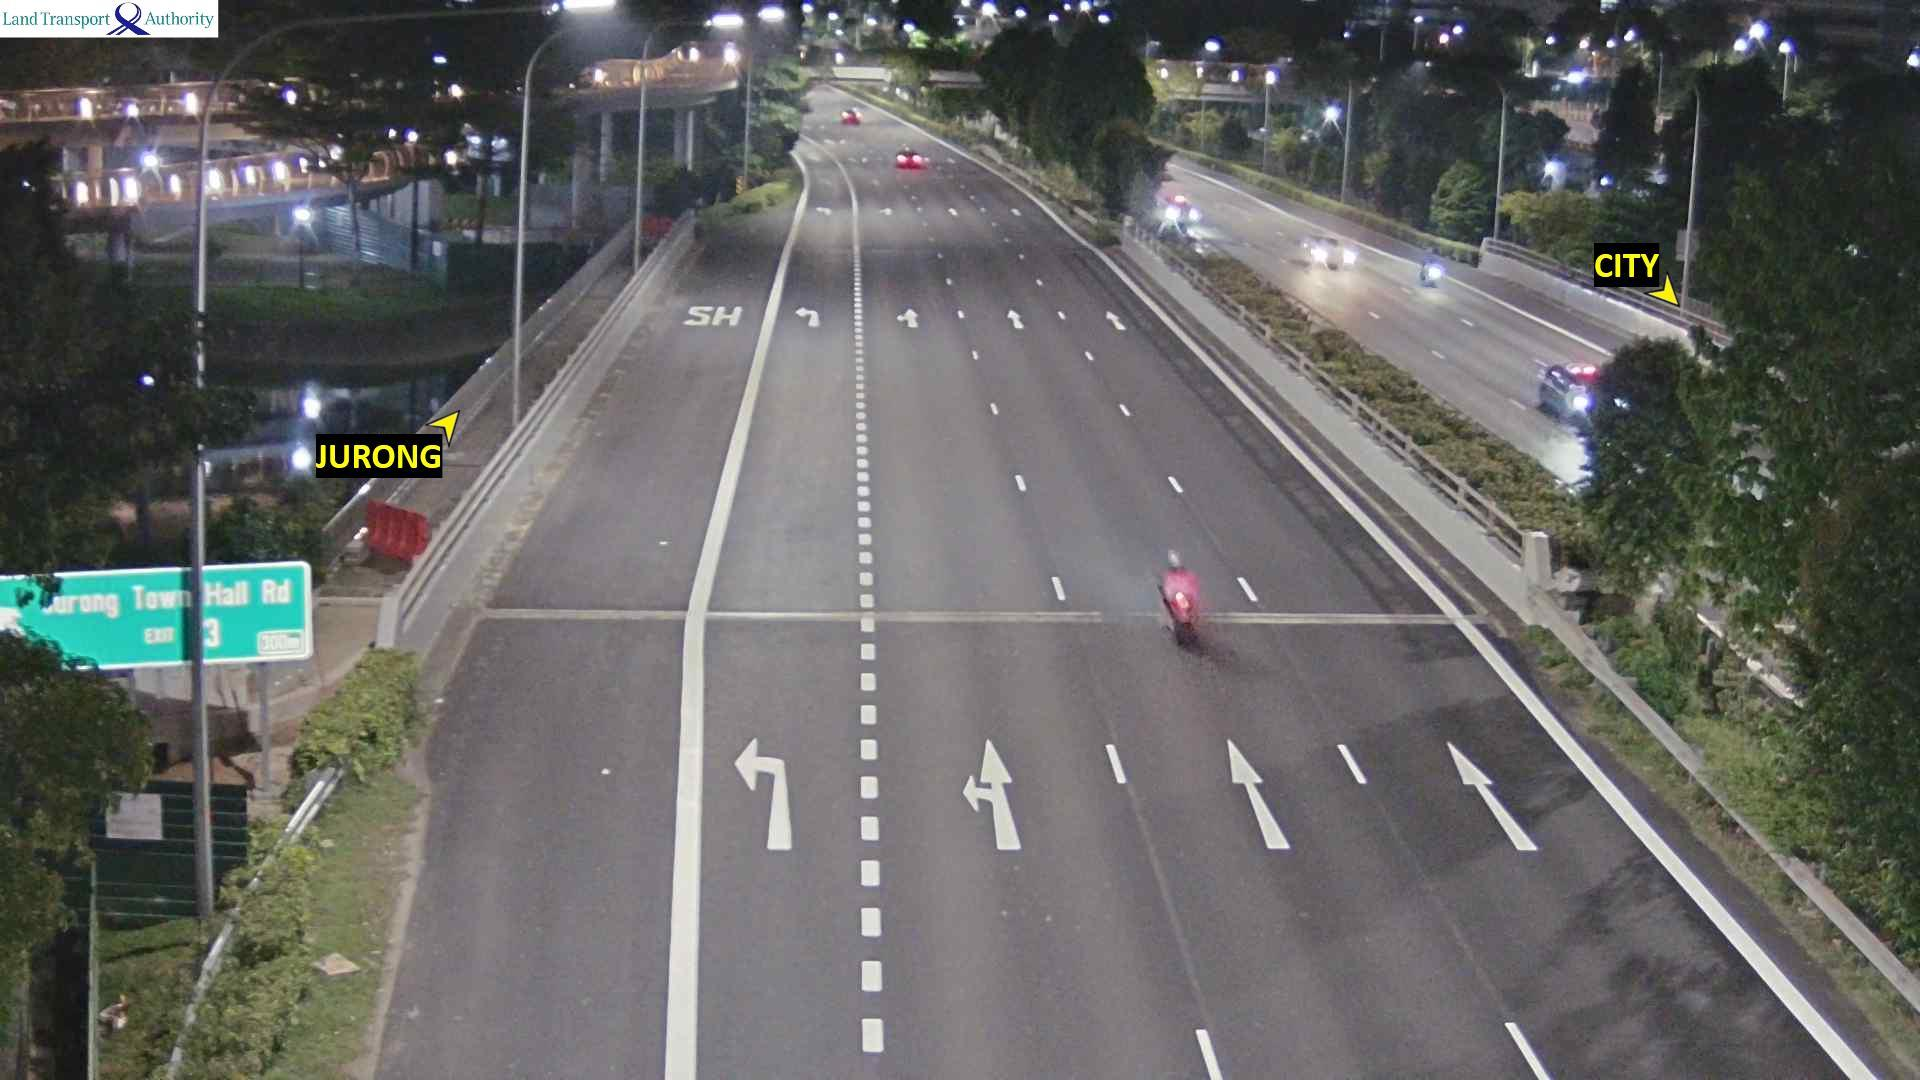incoming: (1313, 227, 1360, 273), (1164, 199, 1209, 229), (1416, 262, 1449, 284)
